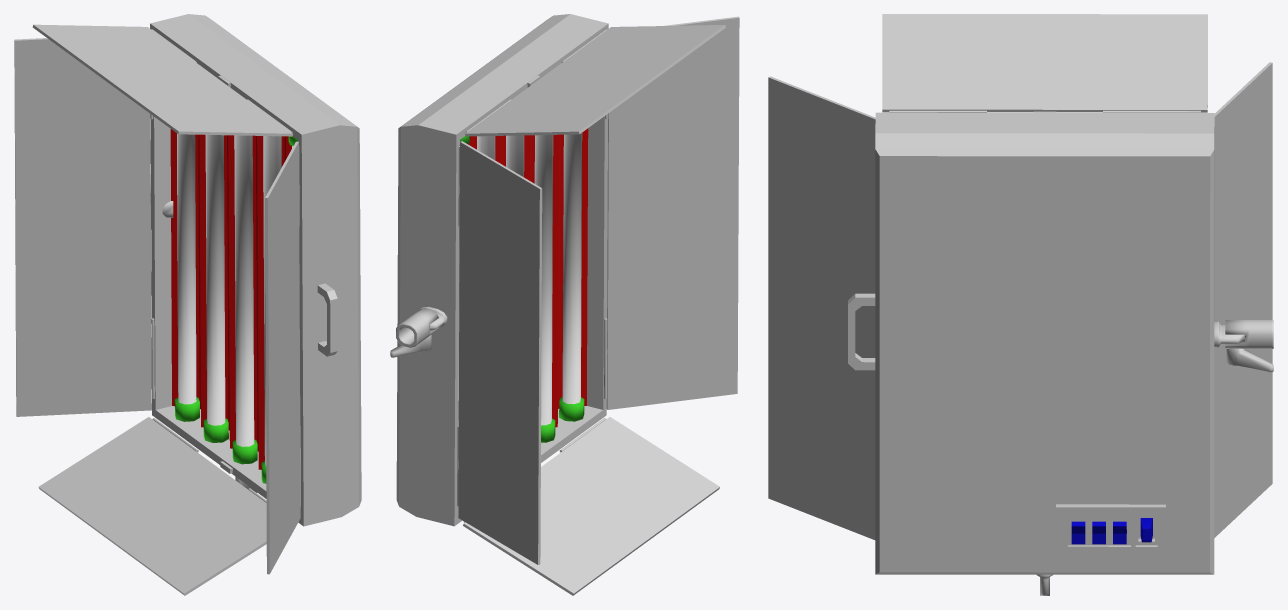
File: SquareLight.fbx
3 views of the same model, side by side, from view 1: azimuth 30°, elevation 25°; view 2: azimuth 150°, elevation 25°; view 3: azimuth 270°, elevation 25° (orthographic). The views are drawn at different scales.
Visible parts, largest first — view 1: Lamp Square; view 2: Lamp Square; view 3: Lamp Square.
Part boxes in pixels (x1,y1,x2,y2): Lamp Square: (14,14,361,595); Lamp Square: (390,14,739,595); Lamp Square: (768,14,1273,595).
Bounding box in the file's own units: 36.29 × 83.15 × 73.32.
